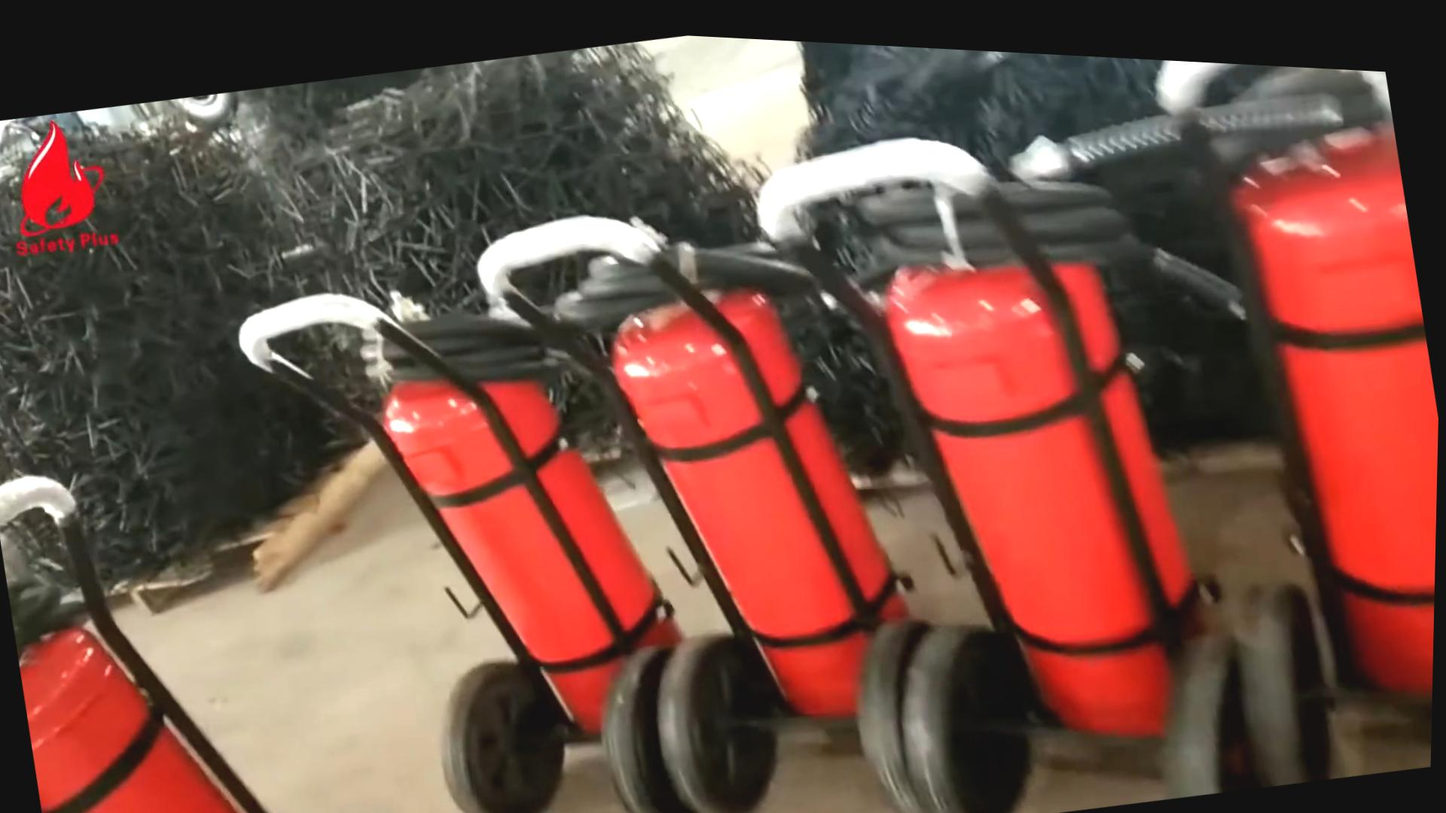FireExtinguisher: (848, 122, 1262, 787), (570, 200, 956, 773), (319, 235, 700, 812), (1192, 69, 1446, 742), (0, 456, 349, 813)
